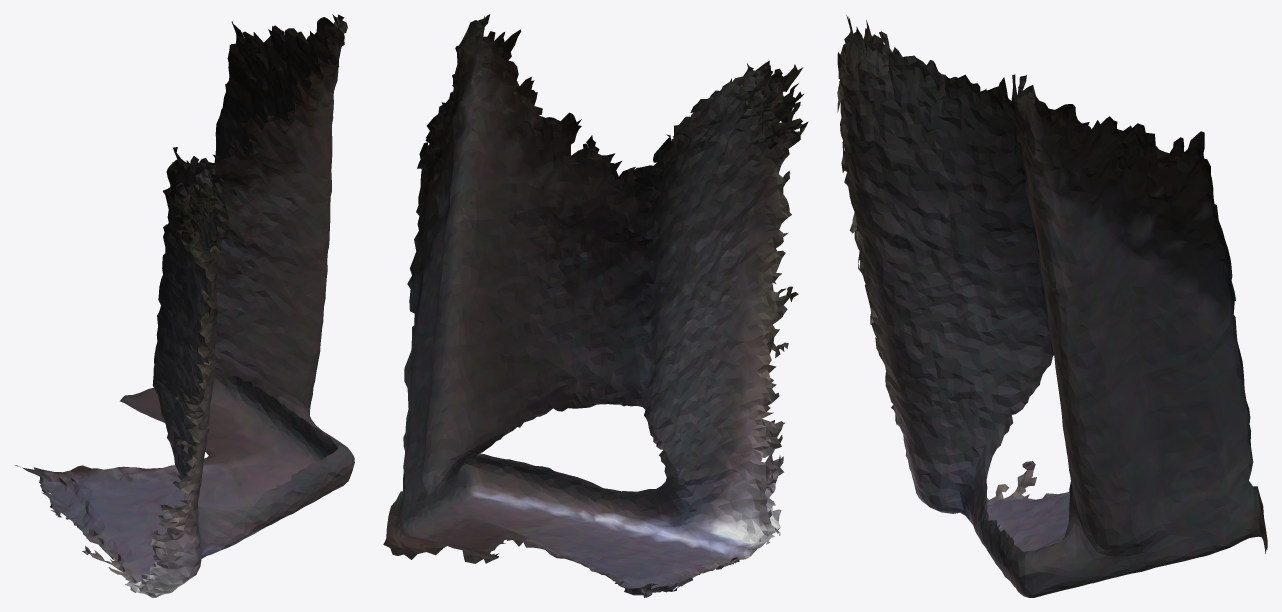
The model's file is 0-couch.rot.obj.
3 renders of one model, left to right at view 1: azimuth 30°, elevation 25°; view 2: azimuth 150°, elevation 25°; view 3: azimuth 270°, elevation 25°, orthographic. The views are drawn at different scales.
Size of the model in its own units: 0.721 by 1.27 by 0.9085.
